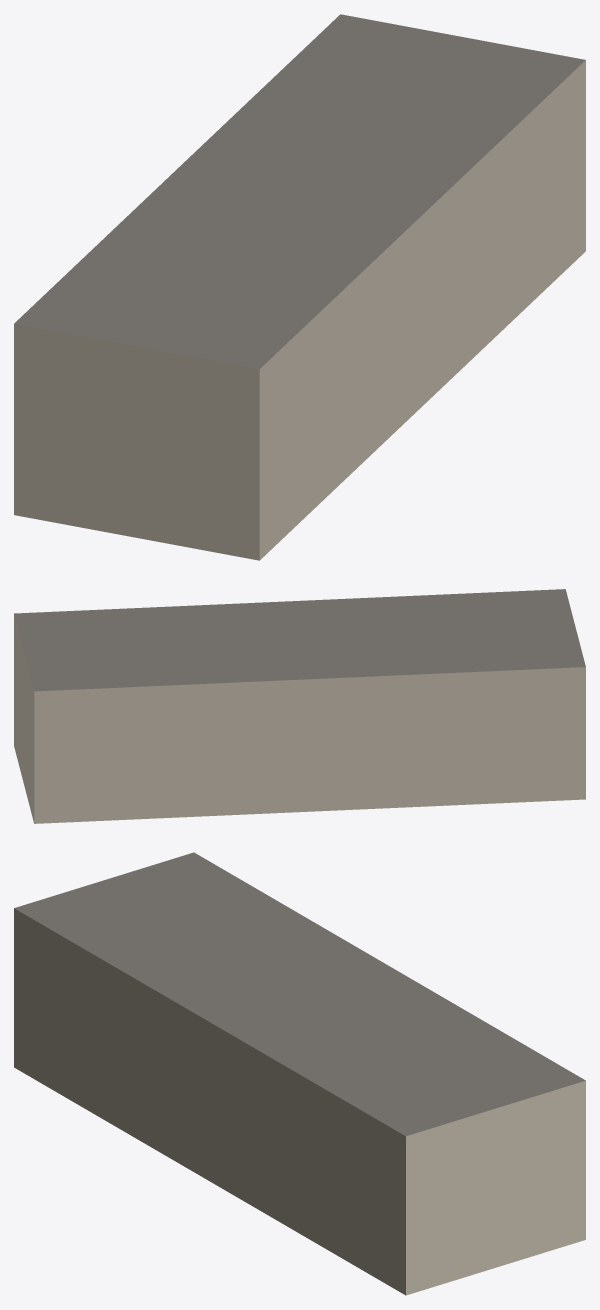
3 renders of one model, top to bottom at view 1: azimuth 30°, elevation 25°; view 2: azimuth 150°, elevation 25°; view 3: azimuth 270°, elevation 25°, orthographic. The views are drawn at different scales.
Parts seen in each view (by area): view 1: HP-w693448964; view 2: HP-w693448964; view 3: HP-w693448964.
Boxes of the visible parts, x1,y1,x2,y2 form: HP-w693448964: (14,14,585,560); HP-w693448964: (14,589,585,823); HP-w693448964: (14,852,585,1295).
Bounding box in the file's own units: 45.89 × 12 × 39.06.
